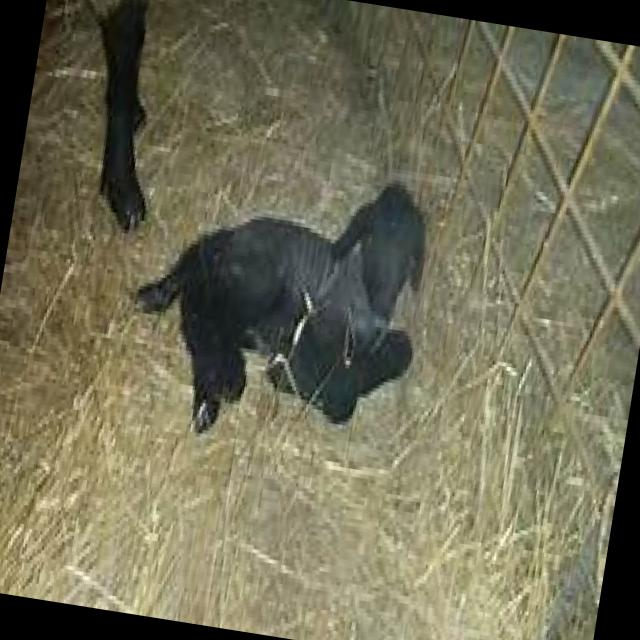sheep: (112, 142, 436, 466)
